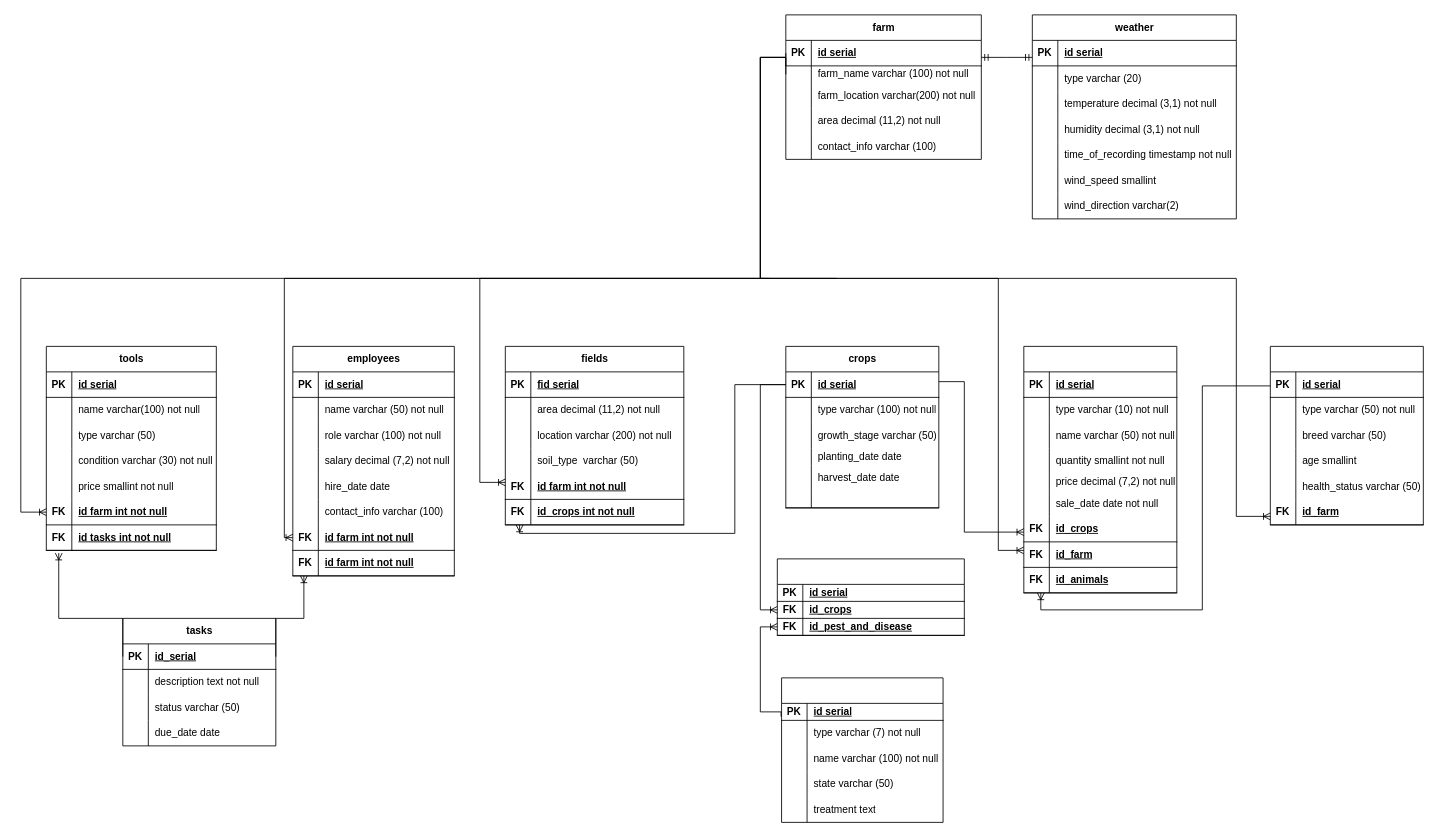
This 1438x837 diagram has some shape labels left out. The shapes that lost their labels are listed below. From the top down, each one's box as (x1, y1, x2, y2) in pixels, then its label:
(1269, 346, 1423, 525): animals
(1023, 346, 1177, 593): sales
(776, 558, 964, 635): crops_pest_and_disease
(781, 677, 943, 822): pest_and_disease
